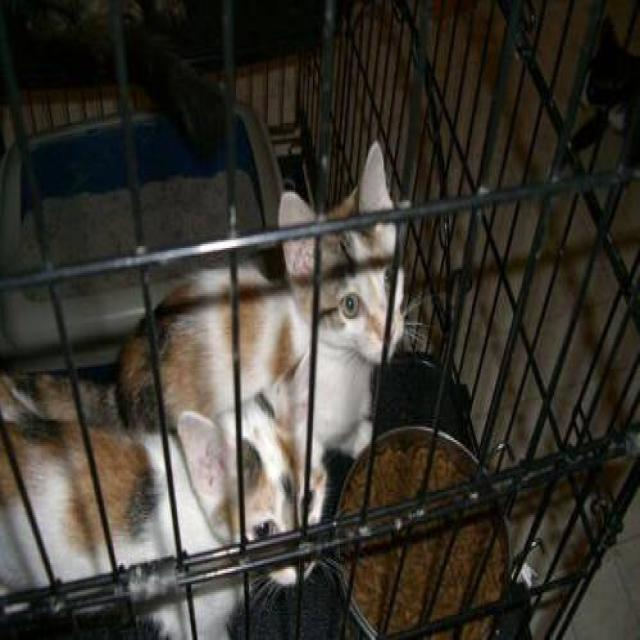cat: (0, 138, 412, 638)
